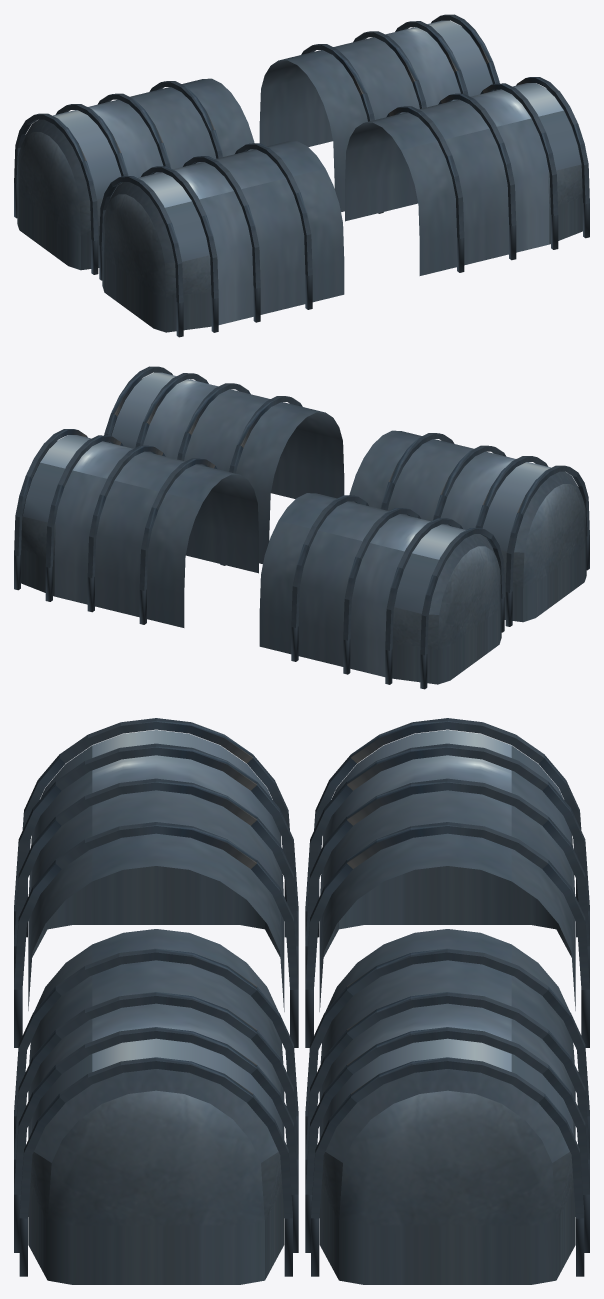
The model's file is greenhouse_p.dae.
The picture shows the model from 3 angles, top to bottom: view 1: azimuth 30°, elevation 25°; view 2: azimuth 150°, elevation 25°; view 3: azimuth 270°, elevation 25°; orthographic projection. The views are drawn at different scales.
Visible parts, largest first — view 1: greenhouse_p; view 2: greenhouse_p; view 3: greenhouse_p.
Part boxes in pixels (<box>): greenhouse_p: <box>14,14,589,337</box>; greenhouse_p: <box>14,366,589,689</box>; greenhouse_p: <box>14,718,589,1284</box>.
Size of the model in its own units: 38.91 by 26.32 by 11.2.
